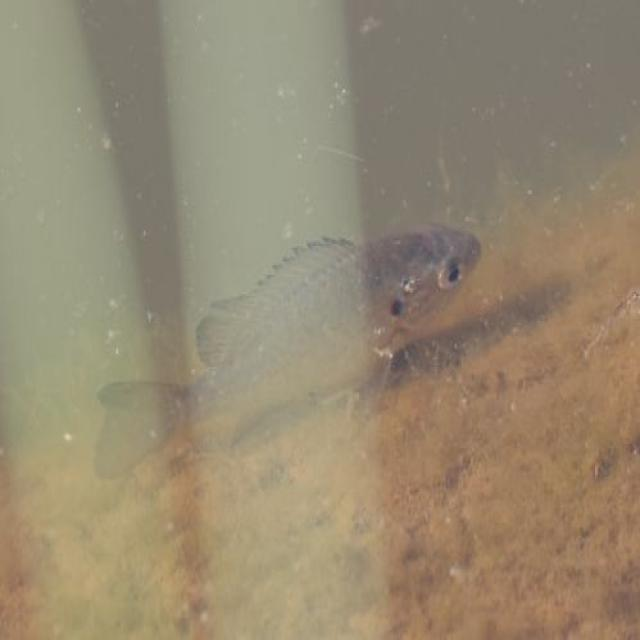Gunes Levregi: (94, 213, 486, 489)
